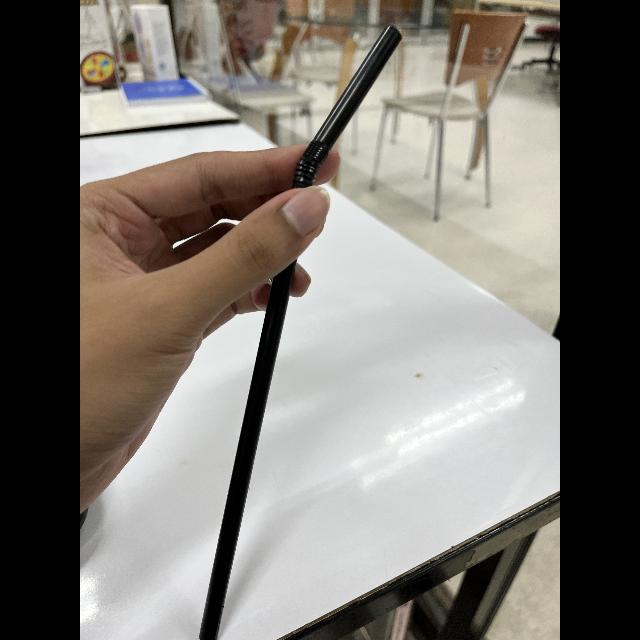straw: (192, 21, 410, 640)
